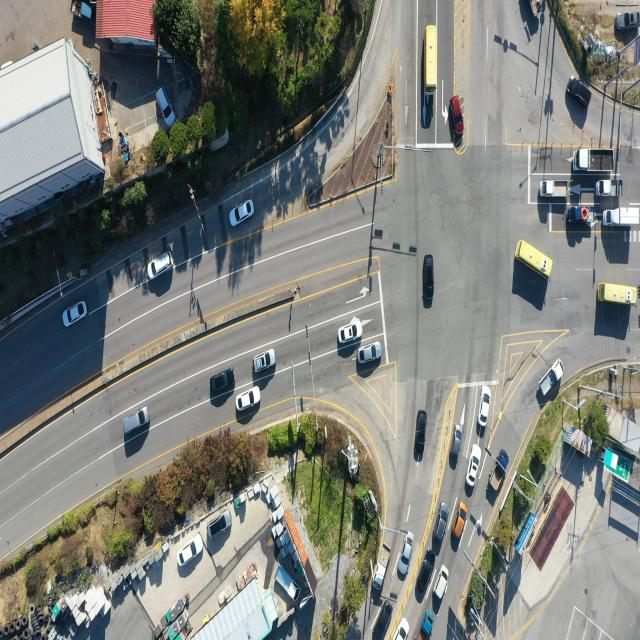car: (567, 74, 593, 105), (124, 406, 150, 436), (157, 85, 176, 126), (182, 537, 206, 569), (147, 253, 172, 283), (399, 532, 416, 576), (415, 410, 428, 464), (338, 319, 364, 345), (465, 444, 481, 486), (209, 370, 235, 395), (424, 257, 436, 311), (229, 200, 252, 228), (209, 512, 232, 540), (448, 423, 462, 469), (418, 551, 434, 591), (254, 348, 278, 374), (356, 342, 382, 366), (64, 302, 87, 328), (237, 387, 261, 411), (437, 502, 451, 542), (454, 500, 468, 540), (480, 385, 492, 426), (616, 10, 640, 30), (436, 565, 450, 599), (391, 617, 409, 640)
medium_truck: (577, 147, 616, 174), (449, 93, 463, 147), (605, 206, 640, 227)
small_bus: (519, 240, 555, 282), (424, 26, 438, 103), (597, 282, 637, 306)
small_truck: (538, 358, 566, 402), (374, 542, 393, 593), (272, 561, 298, 598), (489, 447, 508, 495), (70, 0, 96, 25), (596, 178, 623, 198), (568, 207, 598, 224), (539, 180, 568, 197), (418, 610, 433, 640), (526, 0, 543, 19)
